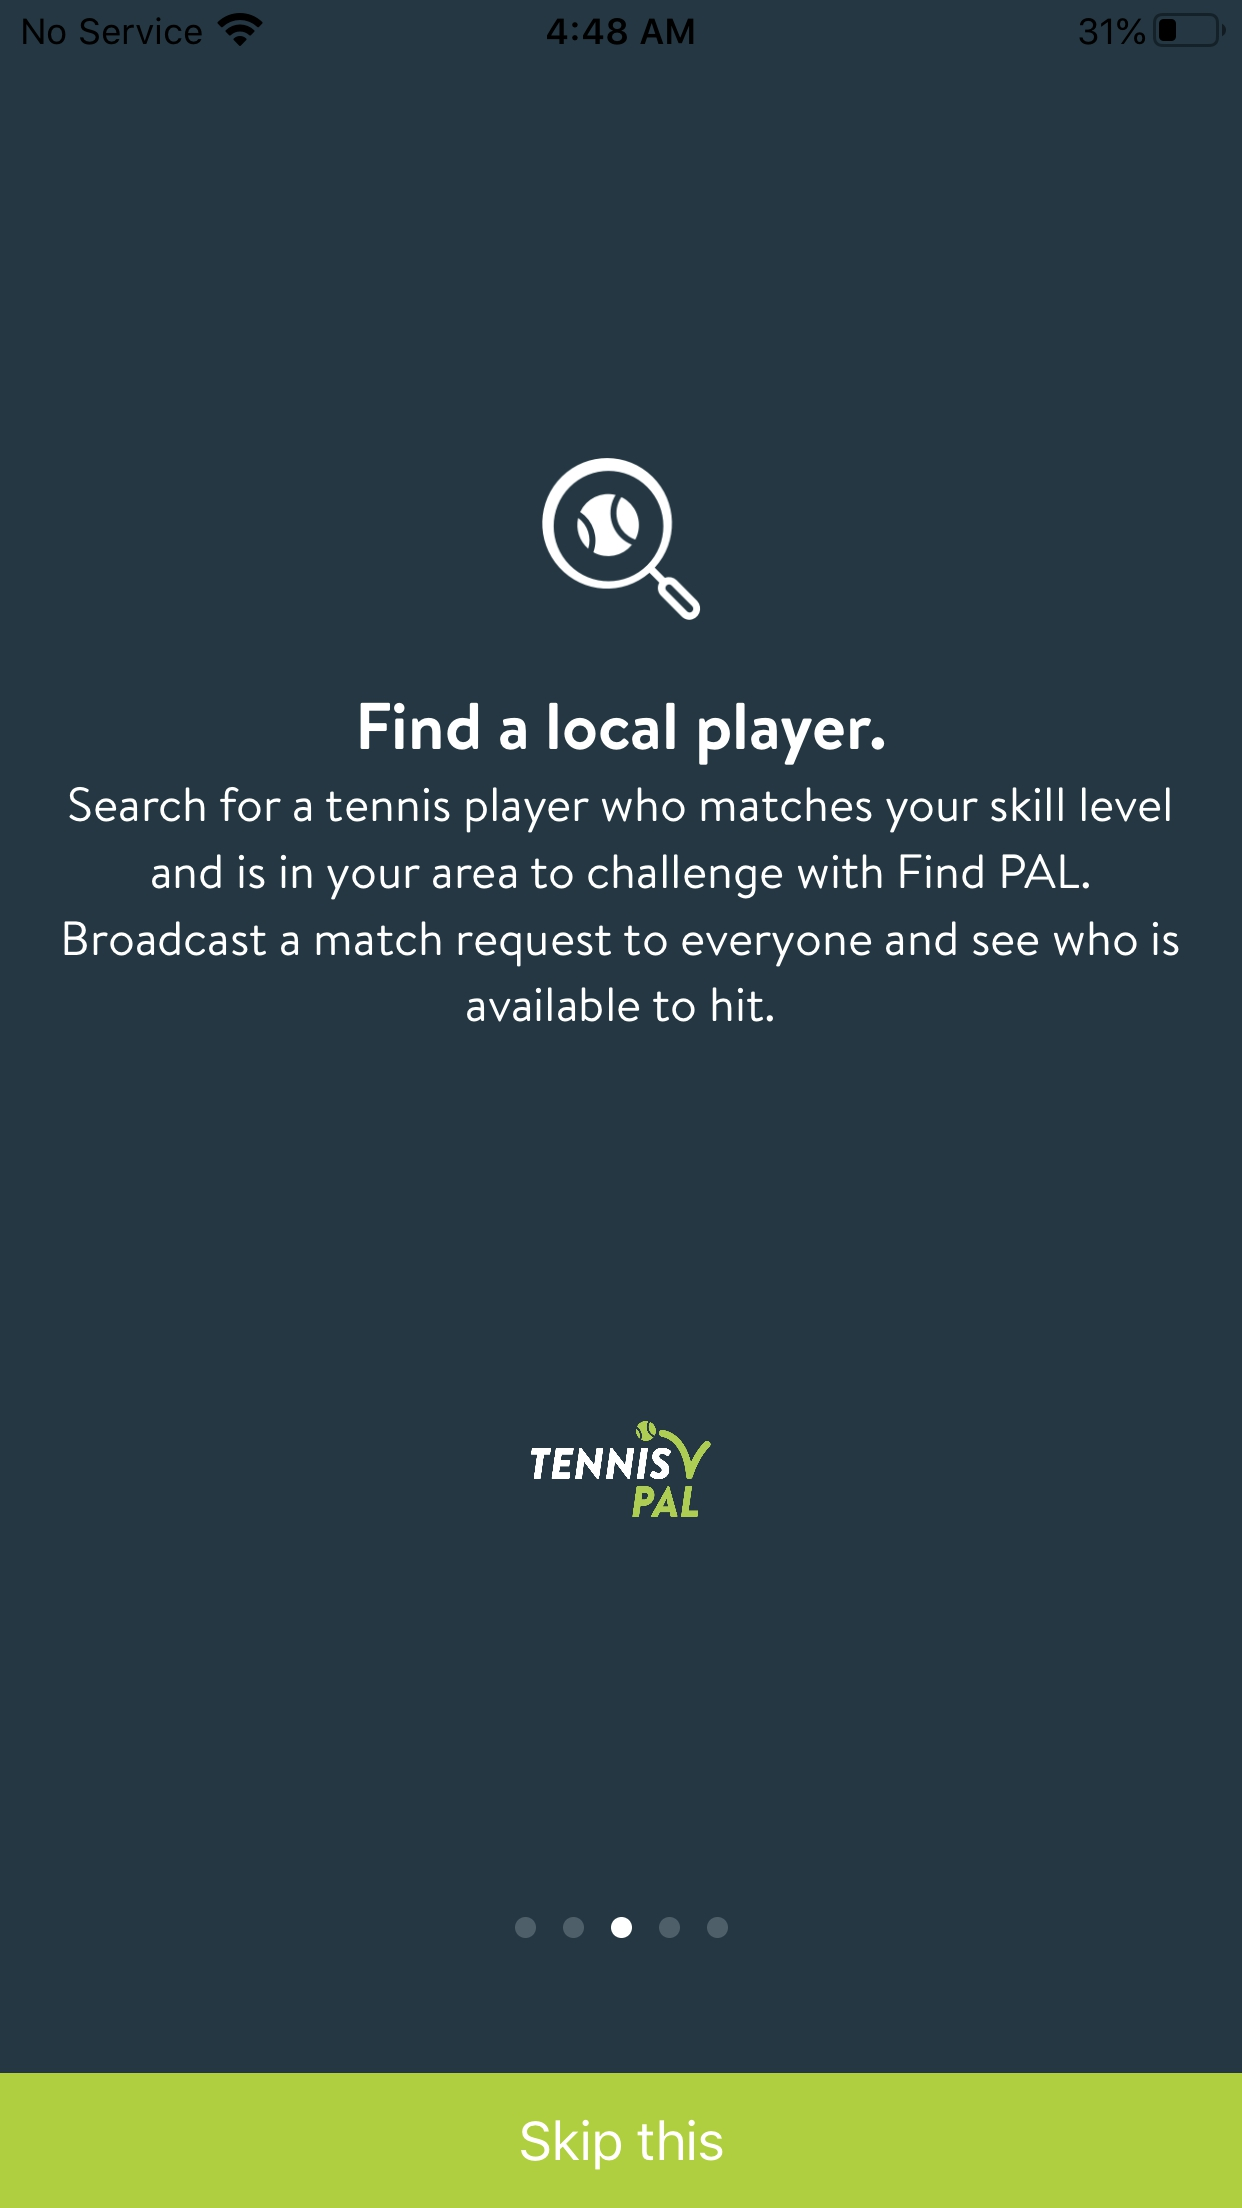Image: (541, 458, 701, 622), (531, 1419, 713, 1518)
PageIndicator: (516, 1915, 729, 1938)
Text: (64, 786, 1178, 1022), (361, 702, 884, 764)
TextButton: (2, 2073, 1242, 2208)
UpperTaskBar: (2, 2, 1242, 47)
